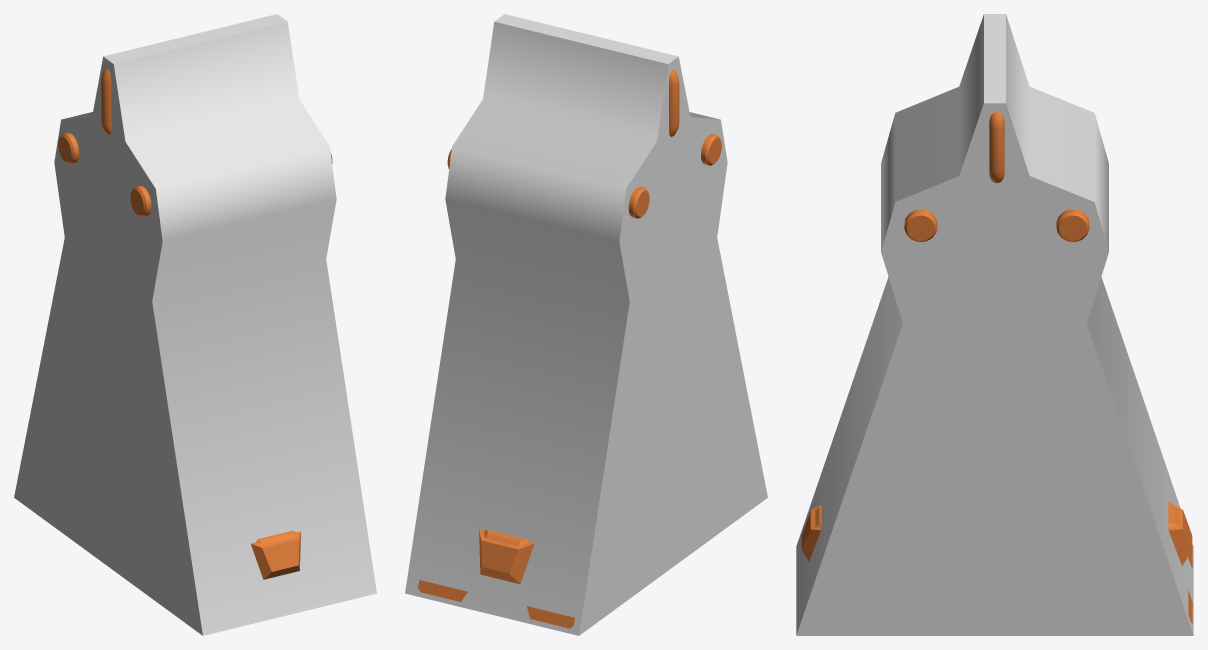
The model's file is SFM_Wet_Sign.FBX.
3 views of the same model, side by side, from view 1: azimuth 30°, elevation 25°; view 2: azimuth 150°, elevation 25°; view 3: azimuth 270°, elevation 25° (orthographic). The views are drawn at different scales.
Visible parts, largest first — view 1: SFM_Wet_Sign_Colider, SFM_Wet_Sign_LOD0, SFM_Wet_Sign2_LOD0; view 2: SFM_Wet_Sign_Colider, SFM_Wet_Sign_LOD0, SFM_Wet_Sign2_LOD0; view 3: SFM_Wet_Sign_Colider, SFM_Wet_Sign_LOD0, SFM_Wet_Sign2_LOD0.
Part boxes in pixels (x1,y1,x2,y2): SFM_Wet_Sign_Colider: [14, 14, 376, 635]; SFM_Wet_Sign_LOD0: [58, 132, 332, 579]; SFM_Wet_Sign2_LOD0: [101, 68, 111, 135]; SFM_Wet_Sign_Colider: [405, 14, 767, 635]; SFM_Wet_Sign_LOD0: [418, 134, 721, 628]; SFM_Wet_Sign2_LOD0: [669, 69, 679, 136]; SFM_Wet_Sign_Colider: [796, 14, 1193, 635]; SFM_Wet_Sign_LOD0: [801, 209, 1192, 623]; SFM_Wet_Sign2_LOD0: [989, 112, 1004, 183].
Size of the model in its own units: 34.8 by 89.24 by 60.35.
